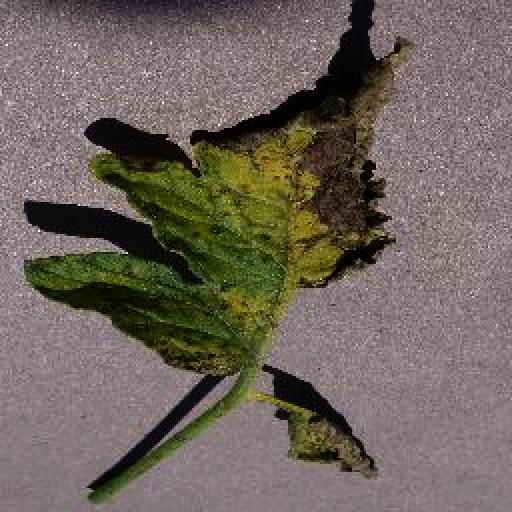disease_tomato: (24, 38, 418, 378)
